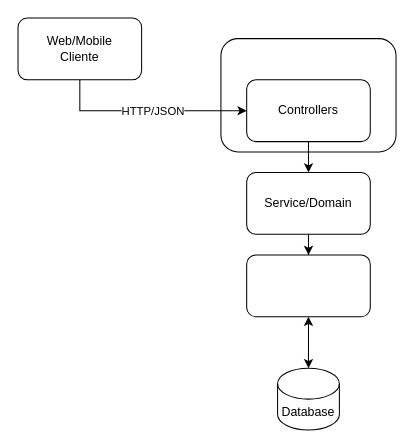
The diagram is 414 pixels wide and 448 high, and some of its shapes have lost their labels. The shapes that lost their labels are listed below. From the top down, each one's box as (x1, y1, x2, y2) in pixels, then its label:
(220, 38, 396, 152): Spring Boot REST API
(246, 254, 370, 317): Repository
